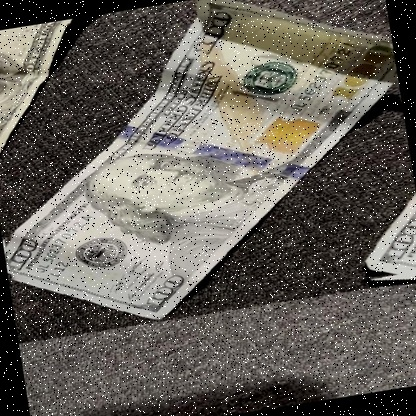one_hundred-front: (4, 1, 394, 321)
